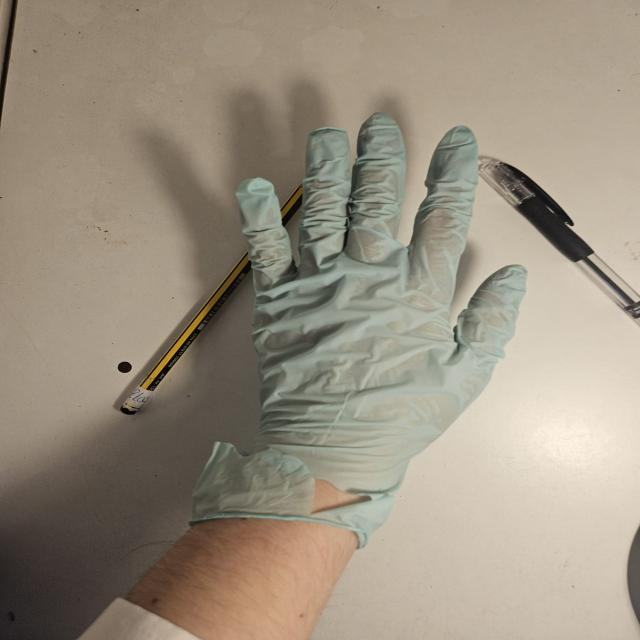gloves_damaged: (182, 113, 528, 554)
